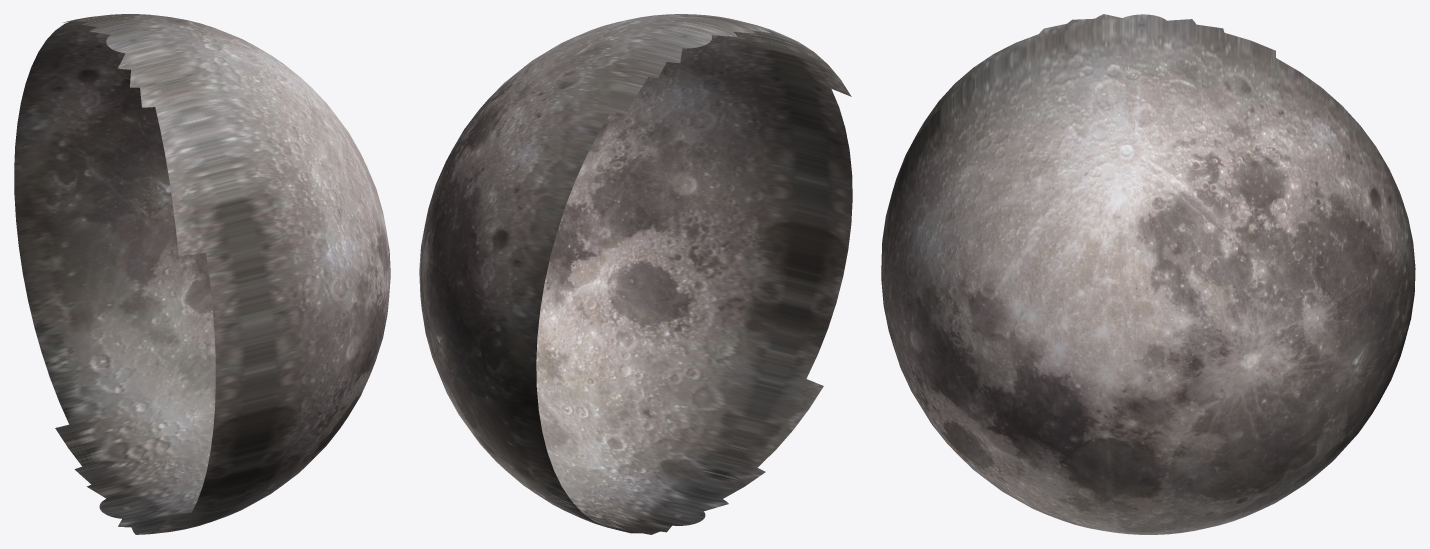
File: Luna_partida.fbx
3 views of the same model, side by side, from view 1: azimuth 30°, elevation 25°; view 2: azimuth 150°, elevation 25°; view 3: azimuth 270°, elevation 25° (orthographic). The views are drawn at different scales.
Visible parts, largest first — view 1: pSphere1; view 2: pSphere1; view 3: pSphere1.
Part boxes in pixels (x1,y1,x2,y2): pSphere1: (14, 14, 390, 534); pSphere1: (419, 14, 852, 534); pSphere1: (881, 14, 1415, 534).
Bounding box in the file's own units: 3.37 × 5.32 × 5.31.
Materials: 1 (1 with a texture image).
